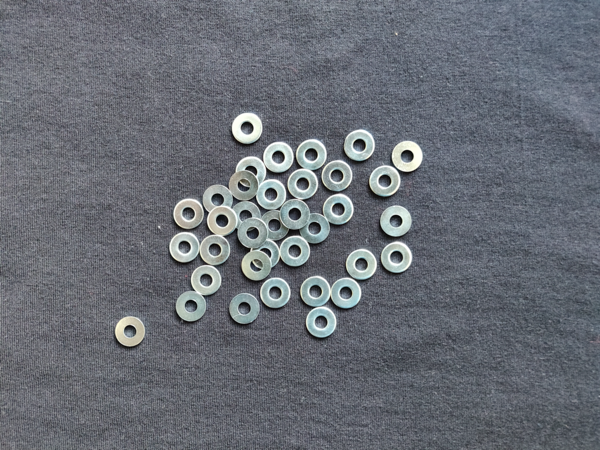circle: (378, 204, 414, 239), (391, 140, 427, 175), (205, 205, 239, 238), (173, 197, 207, 230), (231, 113, 265, 146), (200, 234, 233, 267), (173, 291, 207, 323), (227, 292, 259, 326), (344, 128, 376, 162), (296, 139, 330, 171), (235, 156, 270, 187), (381, 243, 414, 275), (241, 250, 273, 283), (323, 195, 355, 228), (167, 231, 200, 263), (321, 161, 354, 193), (330, 279, 362, 311), (280, 236, 312, 268), (191, 265, 223, 297), (201, 184, 233, 216), (262, 141, 294, 173), (237, 217, 268, 250), (256, 178, 287, 211), (369, 166, 402, 197), (113, 315, 144, 347), (259, 210, 290, 242), (227, 171, 259, 202), (304, 308, 337, 338), (298, 216, 331, 246), (250, 239, 281, 270), (347, 250, 377, 282), (287, 170, 319, 200), (280, 200, 311, 230), (301, 278, 331, 308), (230, 202, 260, 232), (261, 279, 290, 309)
